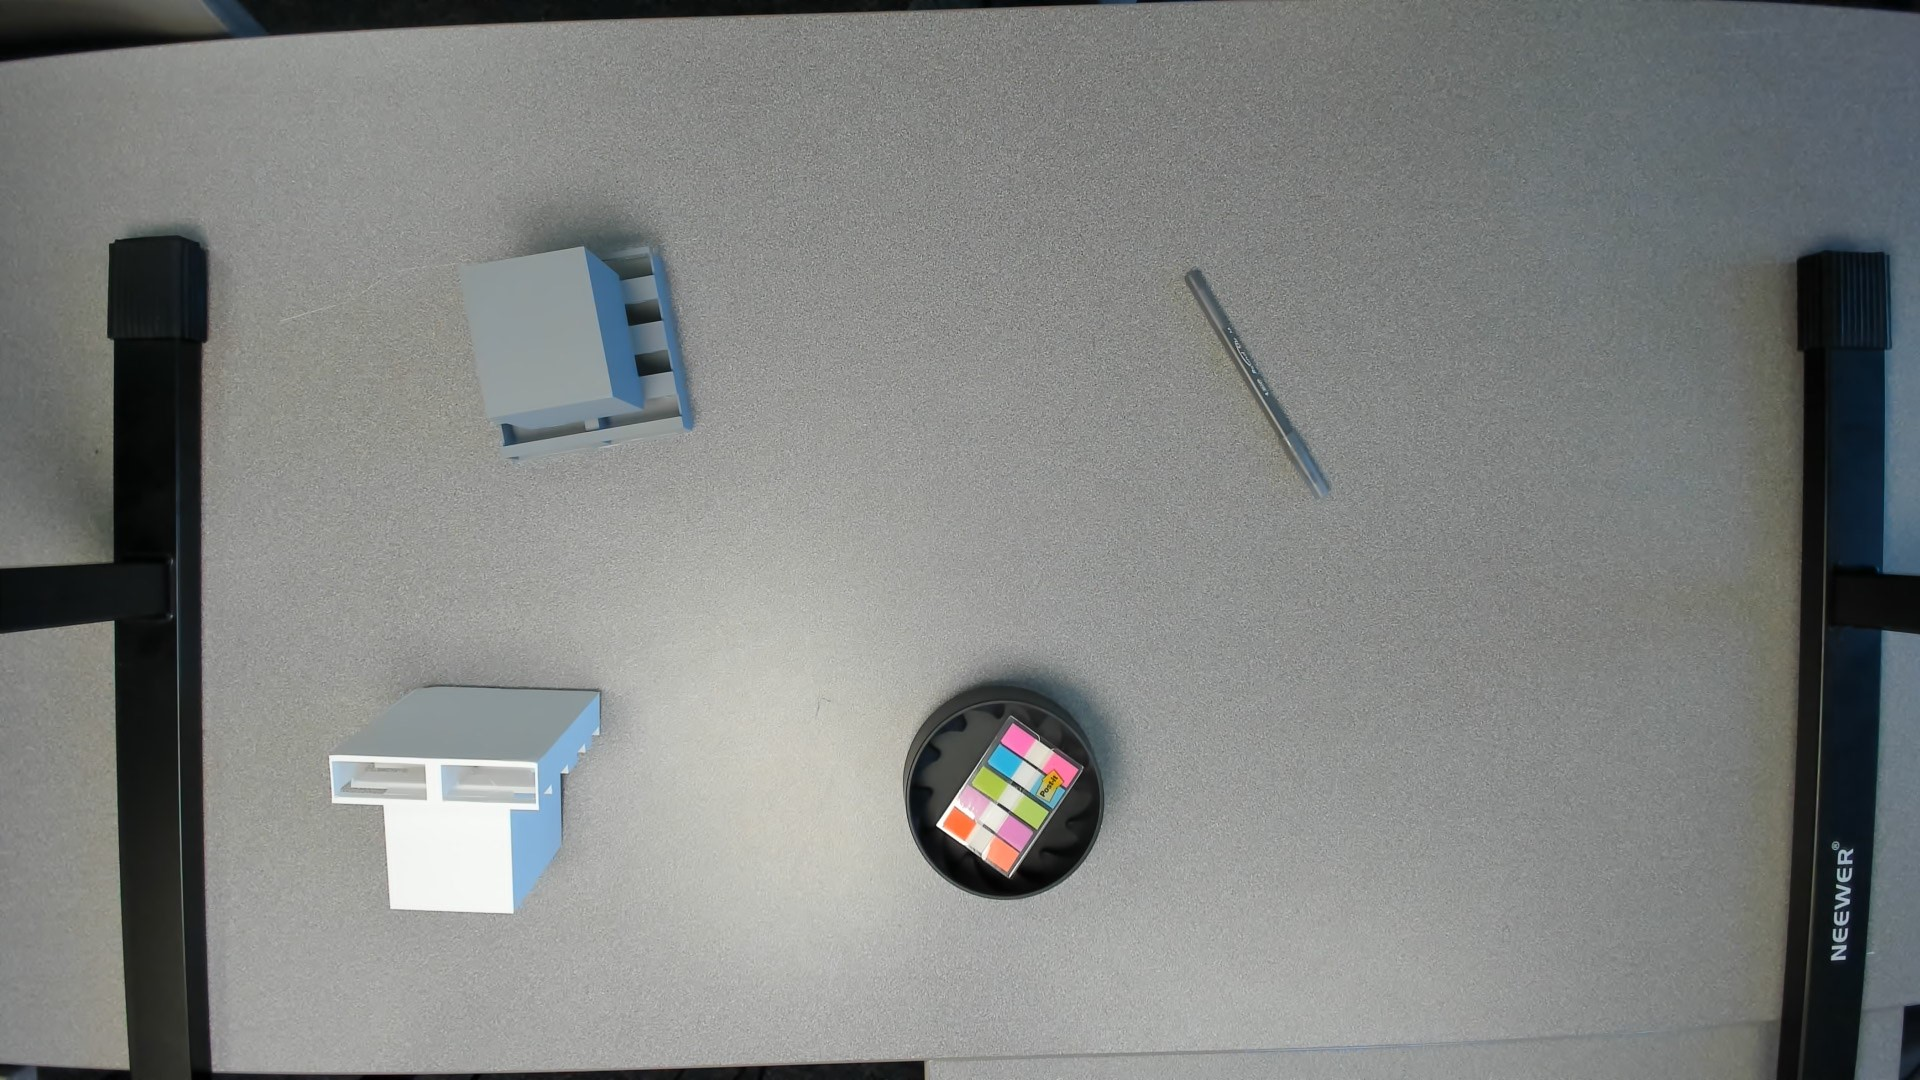grey pallet: (451, 241, 713, 469)
white pallet: (316, 673, 615, 924)
